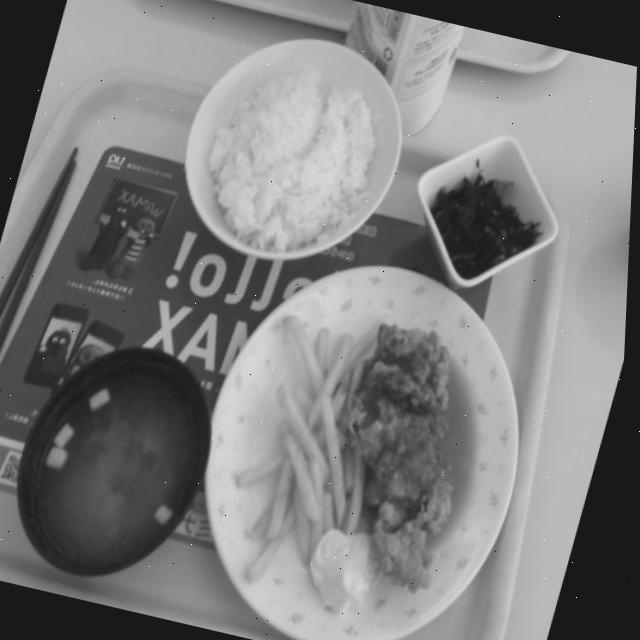汤锅炖物: (0, 320, 241, 600)
米饭主食: (150, 0, 441, 297)
